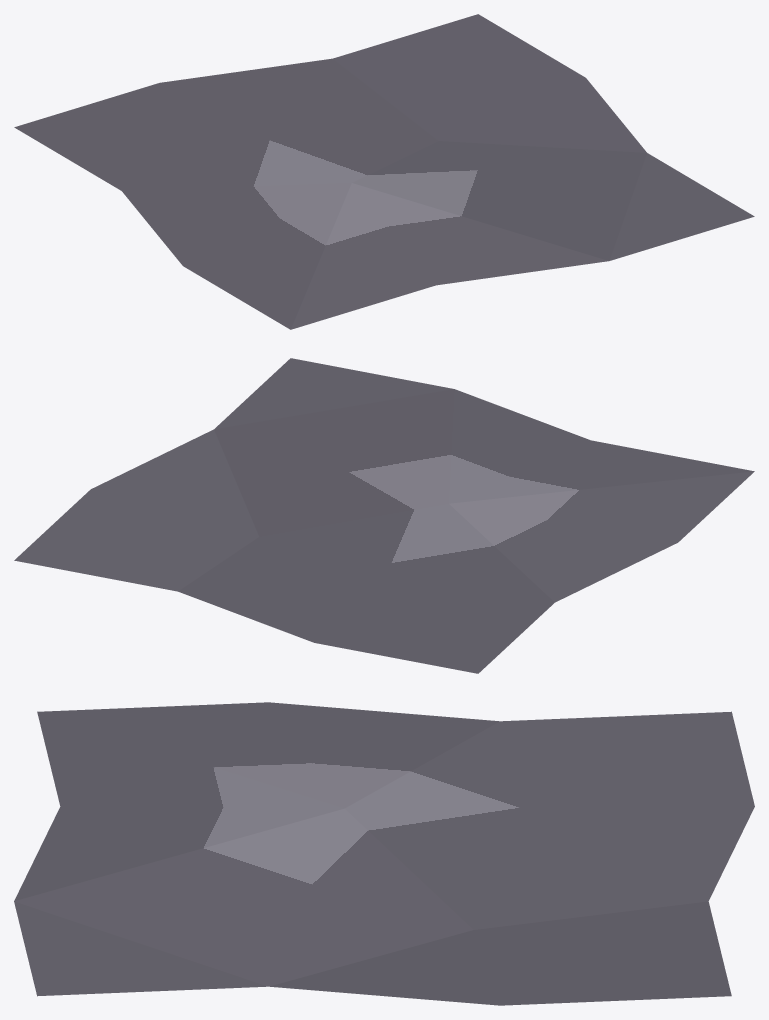
The model's file is HalfFloor_002.fbx.
3 views of the same model, one above another, from view 1: azimuth 30°, elevation 25°; view 2: azimuth 150°, elevation 25°; view 3: azimuth 270°, elevation 25° (orthographic). The views are drawn at different scales.
Visible parts, largest first — view 1: HalfFloor_002; view 2: HalfFloor_002; view 3: HalfFloor_002.
Boxes of the visible parts, x1=… form: HalfFloor_002: x1=14, y1=14, x2=754, y2=329; HalfFloor_002: x1=14, y1=358, x2=754, y2=673; HalfFloor_002: x1=14, y1=702, x2=754, y2=1005.
Bounding box in the file's own units: 51.7 × 2.92 × 53.37.
1 material, 1 textured.
